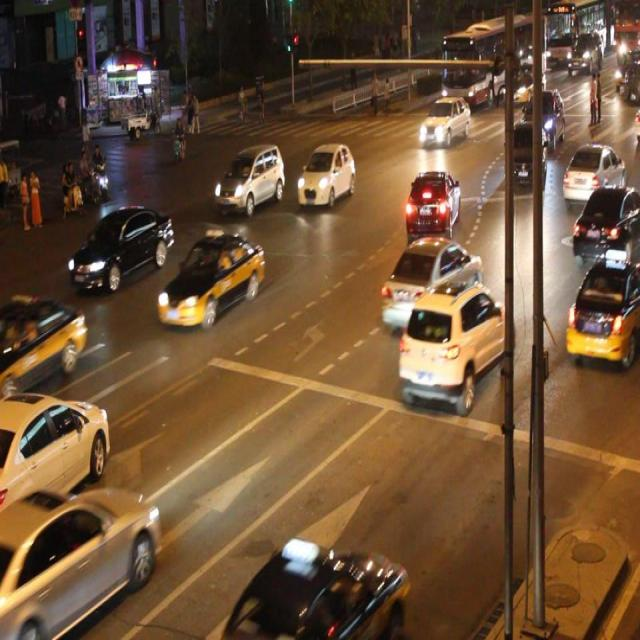car: (1, 488, 160, 640), (226, 546, 406, 640), (1, 389, 110, 540), (397, 281, 513, 403), (157, 232, 264, 327), (69, 203, 174, 291), (381, 236, 482, 327), (0, 292, 86, 388), (563, 256, 640, 360), (571, 186, 640, 262), (215, 141, 284, 207), (403, 167, 458, 241), (297, 140, 354, 206), (561, 143, 623, 201), (504, 120, 546, 191), (418, 96, 470, 148)
